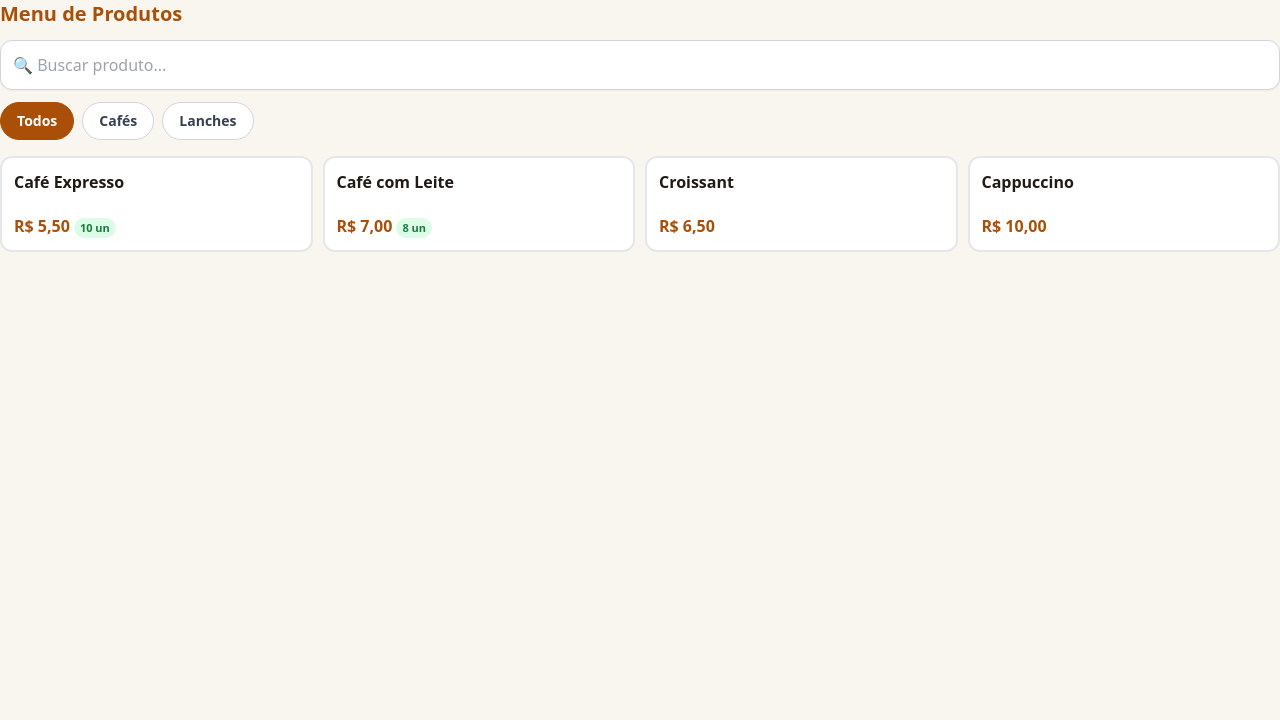
Scenario: PDV no celular: fluxo de venda › mostra o erro do banco quando a venda é recusada
Click the button with aria-label "Adicionar Café Expresso": (69, 182) [0,156,312,252]
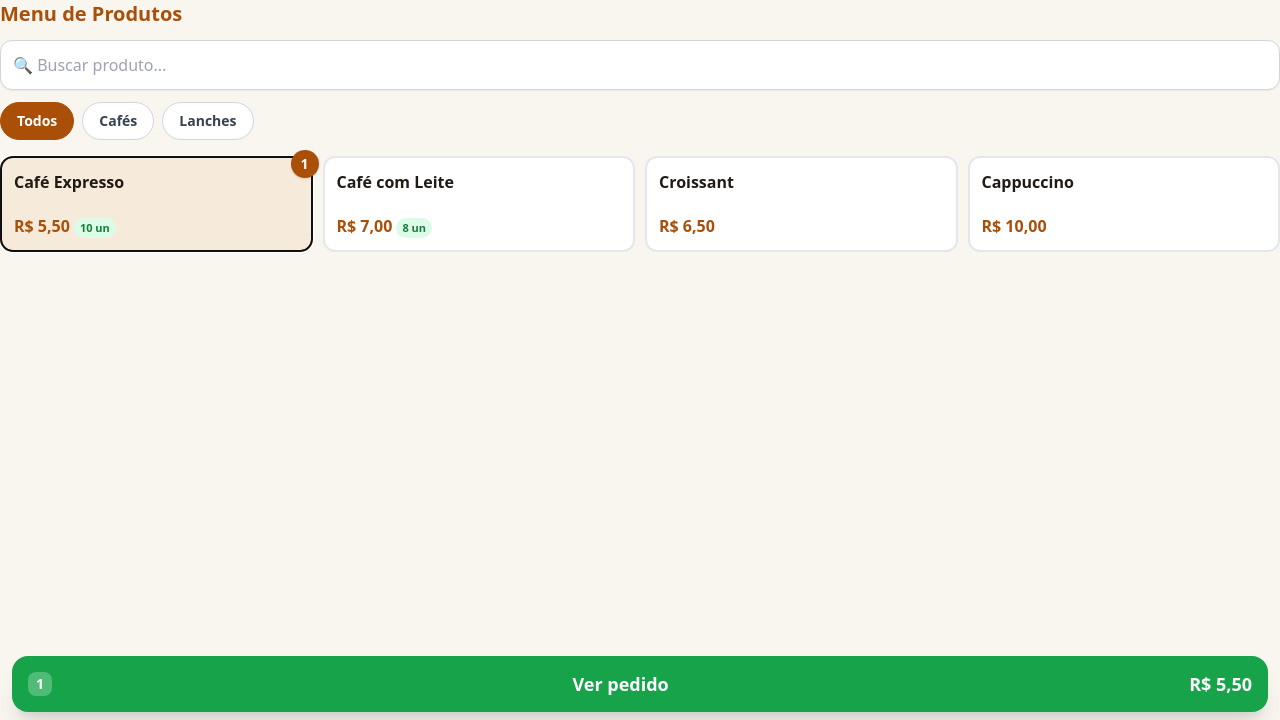
Click the button "1 Ver pedido R$ 5,50": (640, 684) [12,656,1268,712]
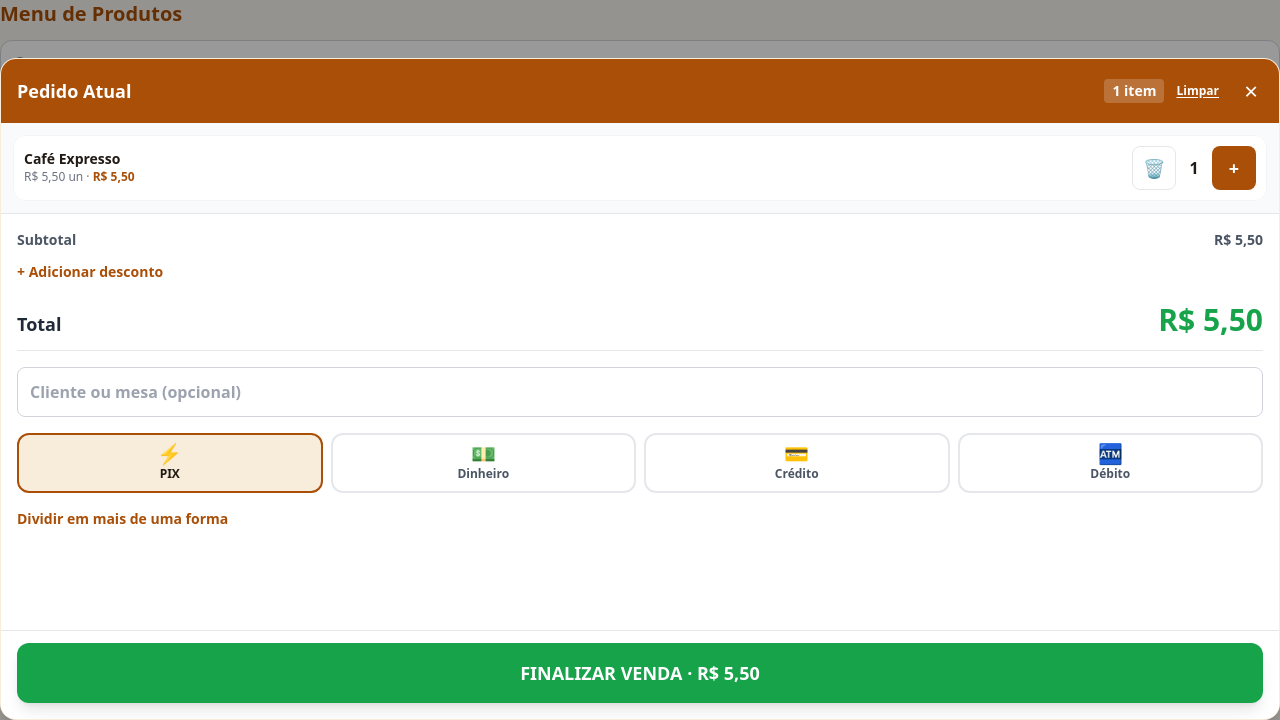
Click the button "FINALIZAR VENDA · R$ 5,50": (640, 673) [17,643,1263,703]
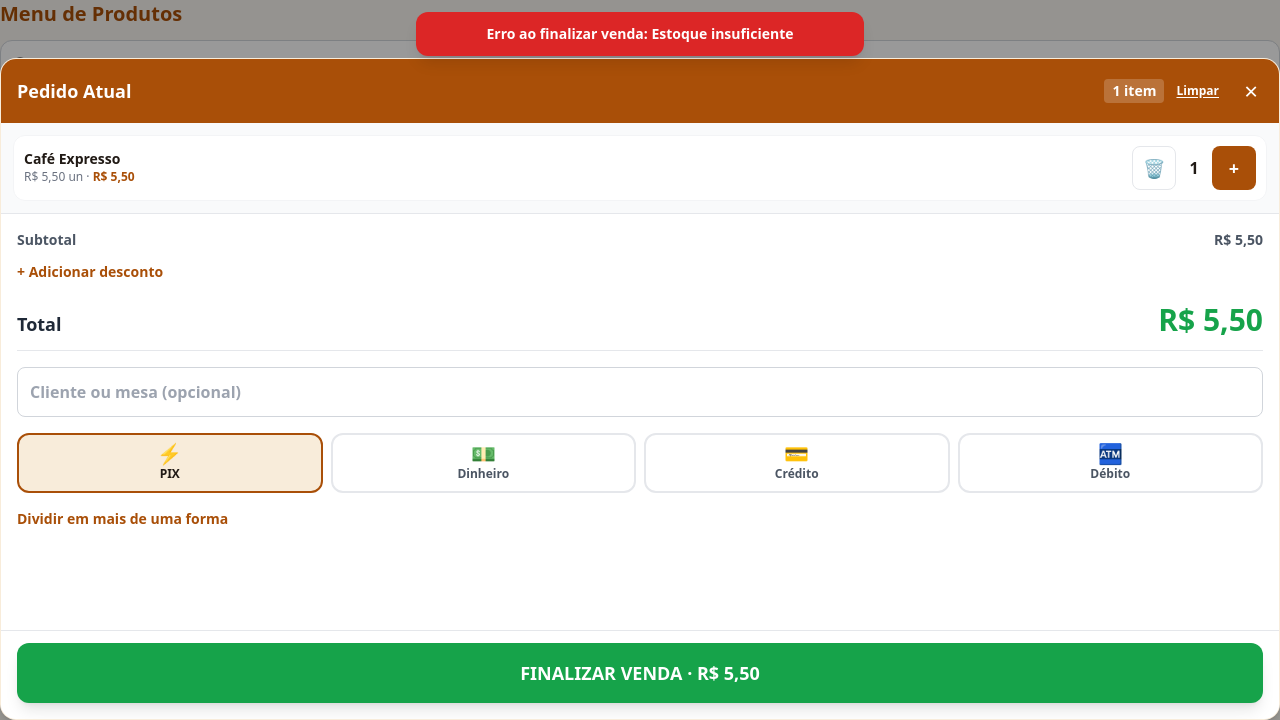
Expected: the dialog "Pedido Atual" is shown
Expected: the text "Erro ao finalizar venda: Estoque insuficiente" is shown, [486,24,794,43]
